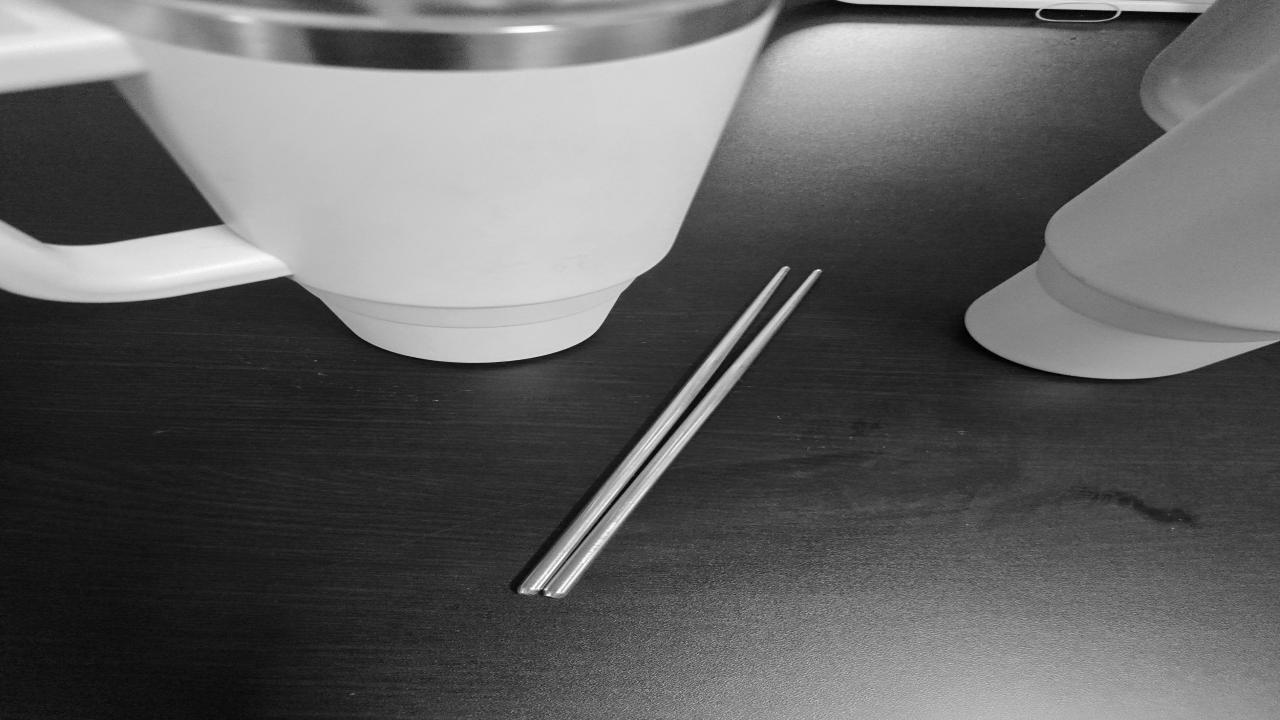chopstick: (514, 265, 819, 595)
